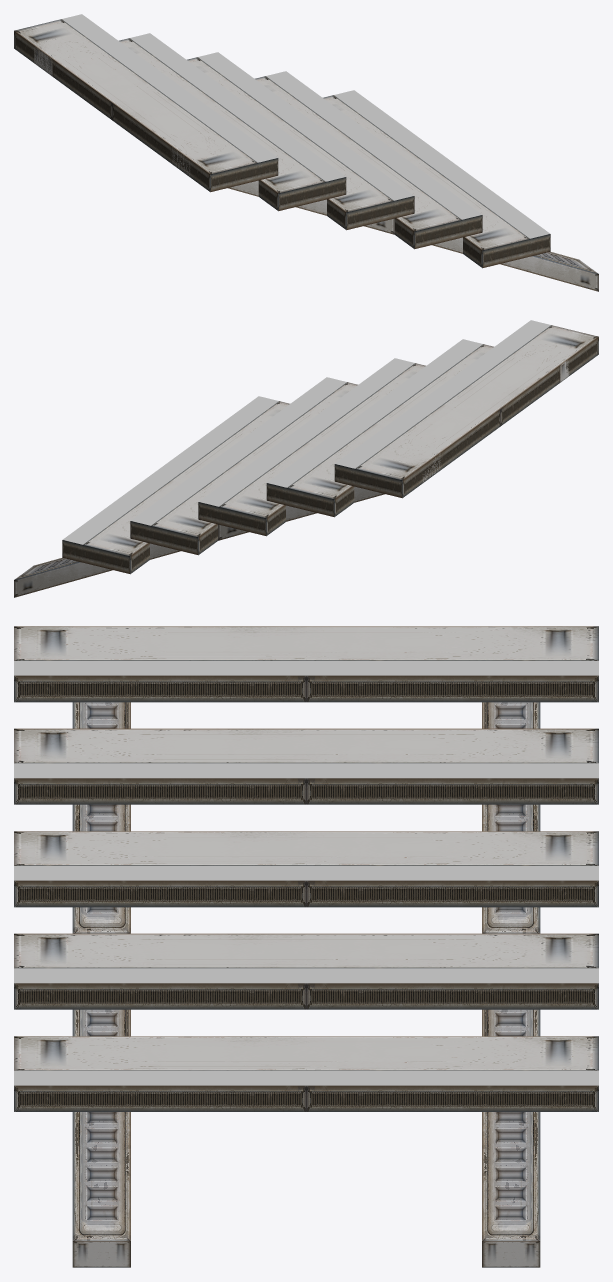
File: scifi_stairs_1.FBX
3 renders of one model, top to bottom at view 1: azimuth 30°, elevation 25°; view 2: azimuth 150°, elevation 25°; view 3: azimuth 270°, elevation 25°, orthographic. The views are drawn at different scales.
Visible parts, largest first — view 1: Plane360; view 2: Plane360; view 3: Plane360.
Part boxes in pixels (bbox=[...]): Plane360: bbox=[14, 14, 598, 291]; Plane360: bbox=[14, 320, 598, 597]; Plane360: bbox=[14, 626, 598, 1267].
Bounding box in the file's own units: 305 × 165 × 254.
